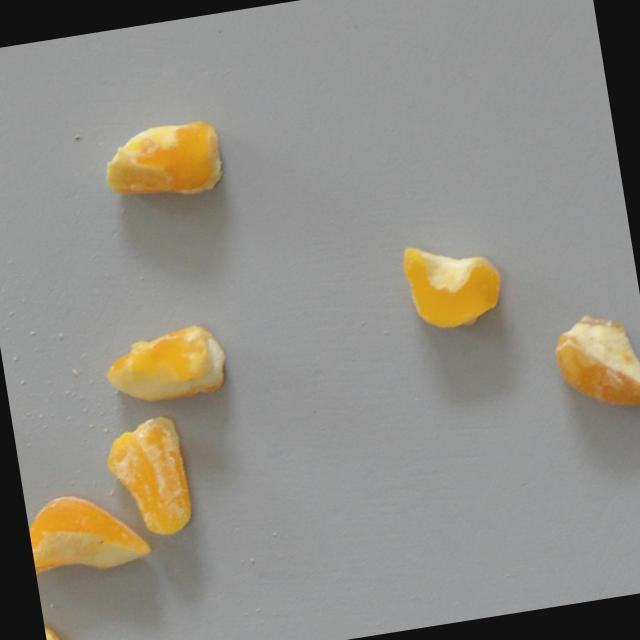pelicula: (80, 116, 228, 213), (98, 308, 232, 414), (99, 413, 197, 545), (398, 232, 507, 336), (548, 307, 640, 419), (44, 616, 90, 640)
punto_negro: (24, 480, 154, 581)
